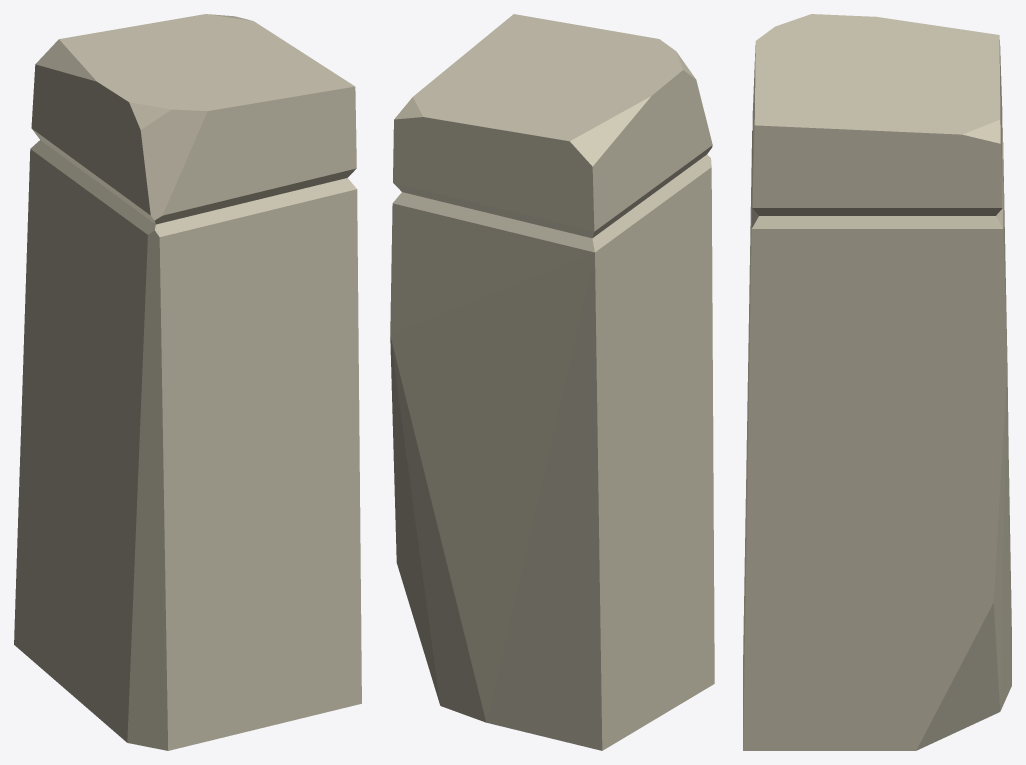
The model's file is Rock_Square_l_14.fbx.
3 views of the same model, side by side, from view 1: azimuth 30°, elevation 25°; view 2: azimuth 150°, elevation 25°; view 3: azimuth 270°, elevation 25° (orthographic). The views are drawn at different scales.
Visible parts, largest first — view 1: Rock_Square_l_14; view 2: Rock_Square_l_14; view 3: Rock_Square_l_14.
Part boxes in pixels (<box>): Rock_Square_l_14: <box>14,14,361,750</box>; Rock_Square_l_14: <box>390,14,714,750</box>; Rock_Square_l_14: <box>743,14,1011,750</box>.
Bounding box in the file's own units: 1.38 × 3.8 × 1.45.
